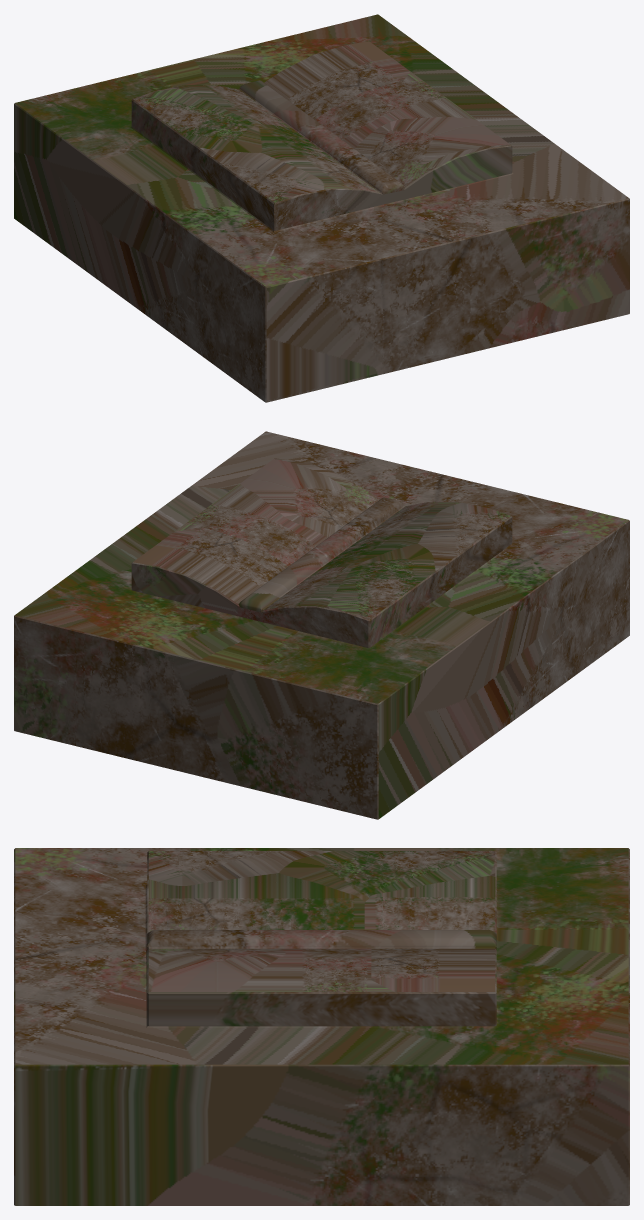
Rendered from Lapida3.fbx.
3 views of the same model, one above another, from view 1: azimuth 30°, elevation 25°; view 2: azimuth 150°, elevation 25°; view 3: azimuth 270°, elevation 25° (orthographic). The views are drawn at different scales.
Parts seen in each view (by area): view 1: lapida_.003; view 2: lapida_.003; view 3: lapida_.003.
Boxes of the visible parts, x1,y1,x2,y2 form: lapida_.003: (14, 14, 629, 402); lapida_.003: (14, 431, 629, 819); lapida_.003: (14, 848, 629, 1205).
Size of the model in its own units: 921 by 354 by 1104.
